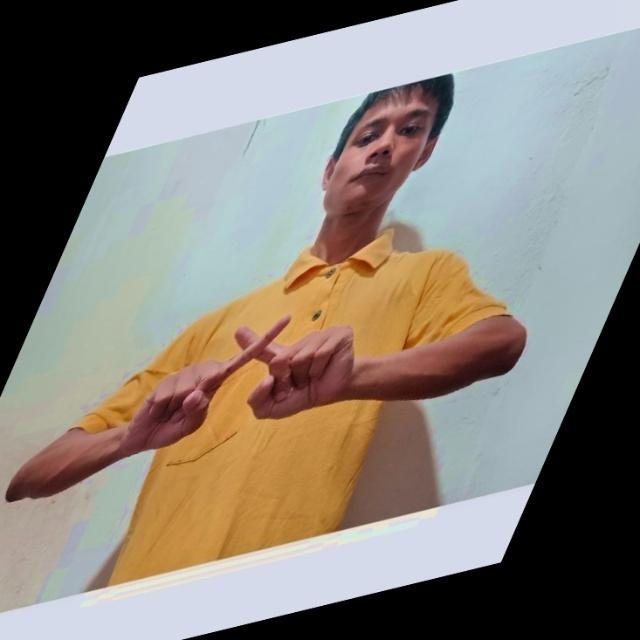X: (103, 282, 365, 472)
